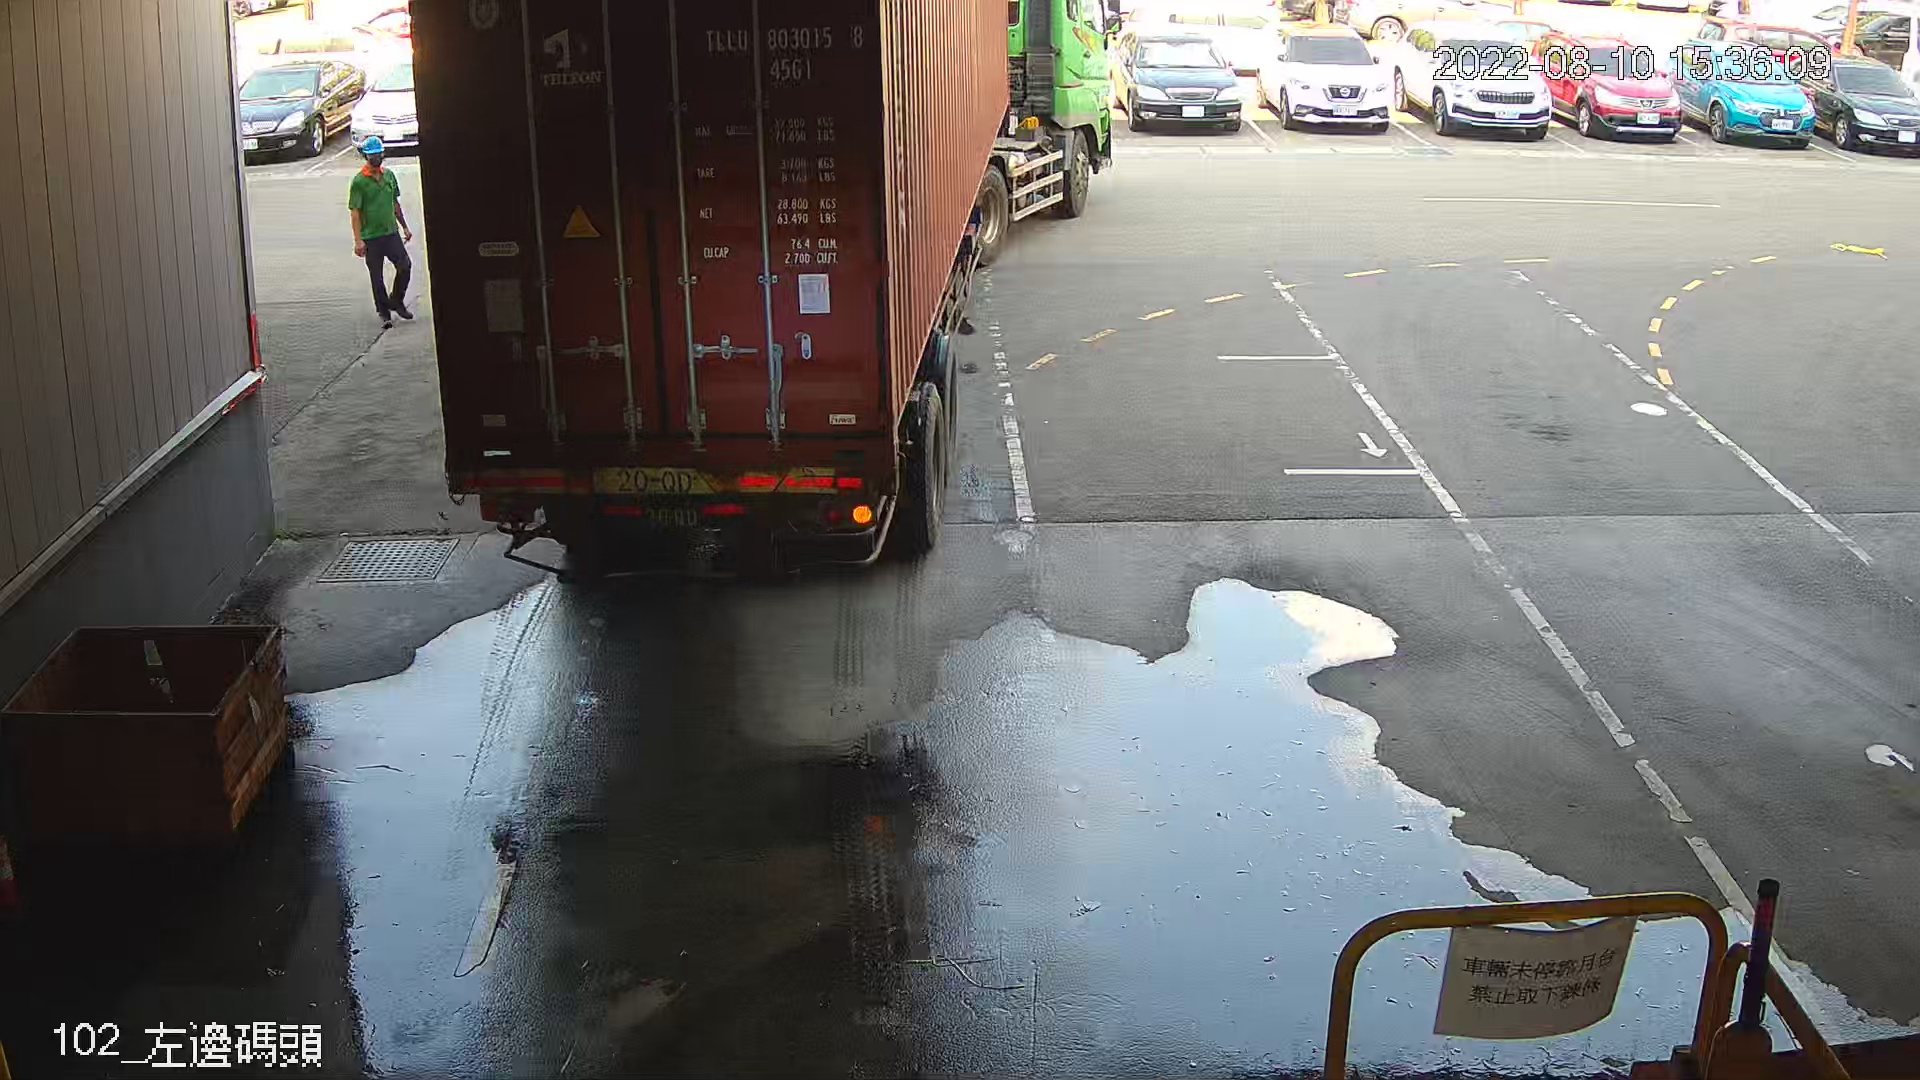container: (692, 11, 873, 88)
